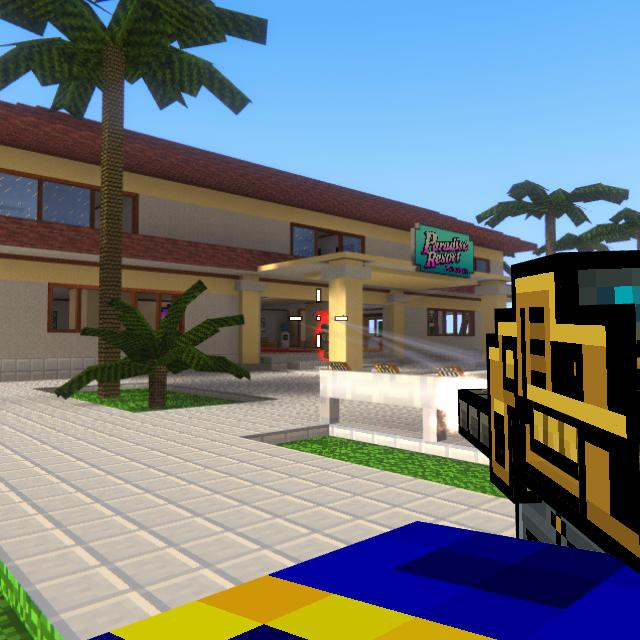Enemy: (317, 323, 329, 359)
